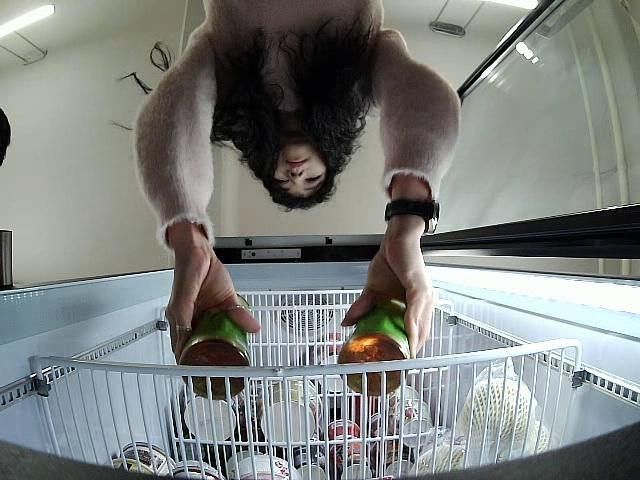19_17cha: (180, 290, 250, 402), (336, 296, 411, 395)
